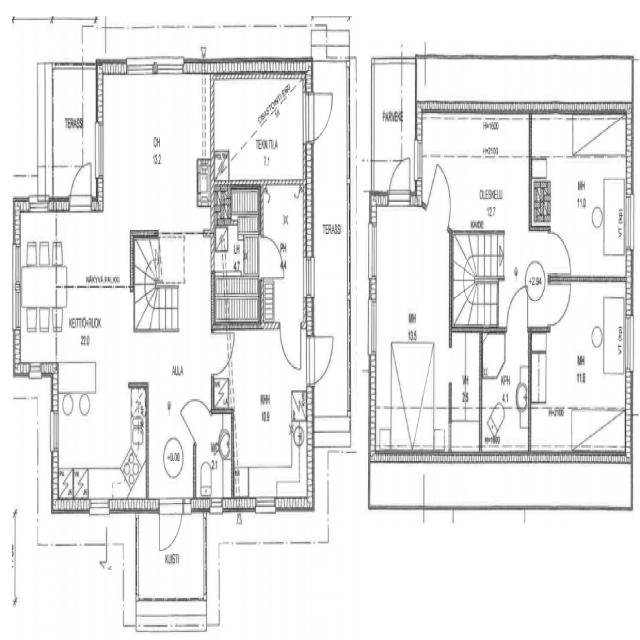door: (426, 163, 458, 230), (182, 383, 211, 442), (304, 93, 338, 142), (307, 336, 338, 384), (158, 498, 182, 558), (69, 153, 91, 211), (388, 148, 410, 206), (260, 236, 284, 277), (211, 332, 234, 374), (280, 322, 300, 368), (507, 286, 527, 332), (548, 284, 570, 324), (548, 233, 570, 273)
